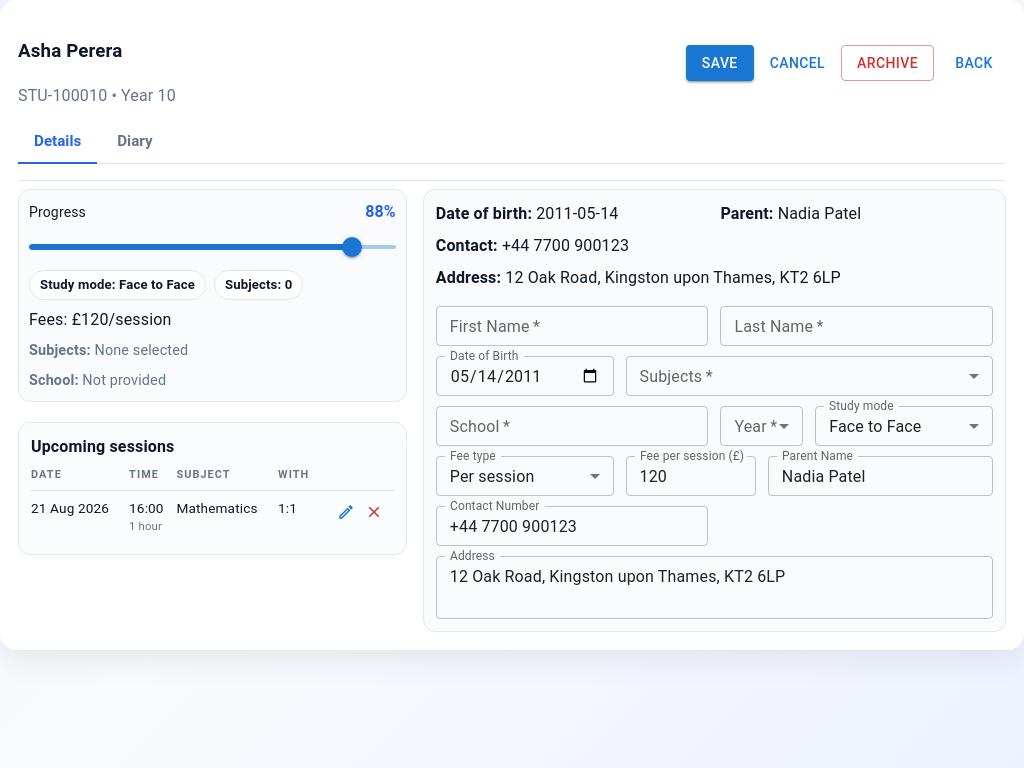
Test case: StudentDetailsView › blocks saving edits with required fields cleared, marking each (REQ-029)
Click the button "Save" at (720, 63), box left=686, top=44, right=754, bottom=81
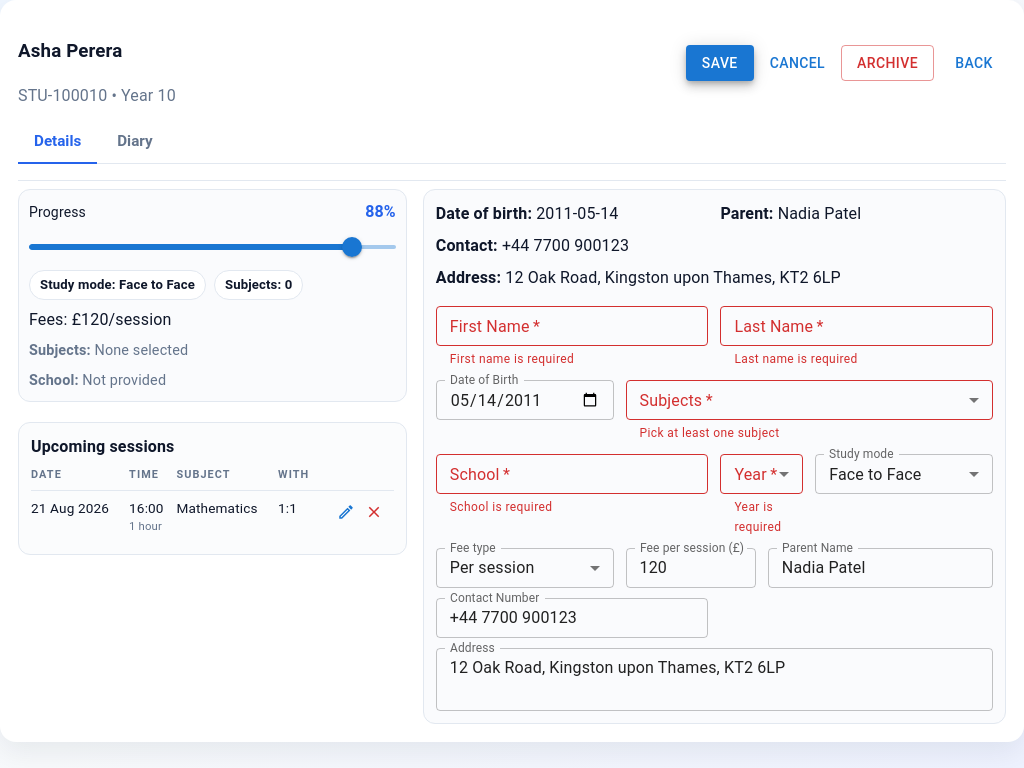
Check: the text "First name is required" is shown, box left=450, top=352, right=574, bottom=366
Check: the text "Last name is required" is shown, box left=734, top=352, right=858, bottom=366
Check: the text "Pick at least one subject" is shown, box left=640, top=426, right=780, bottom=440
